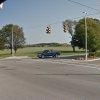Car: (34, 41, 66, 62)
